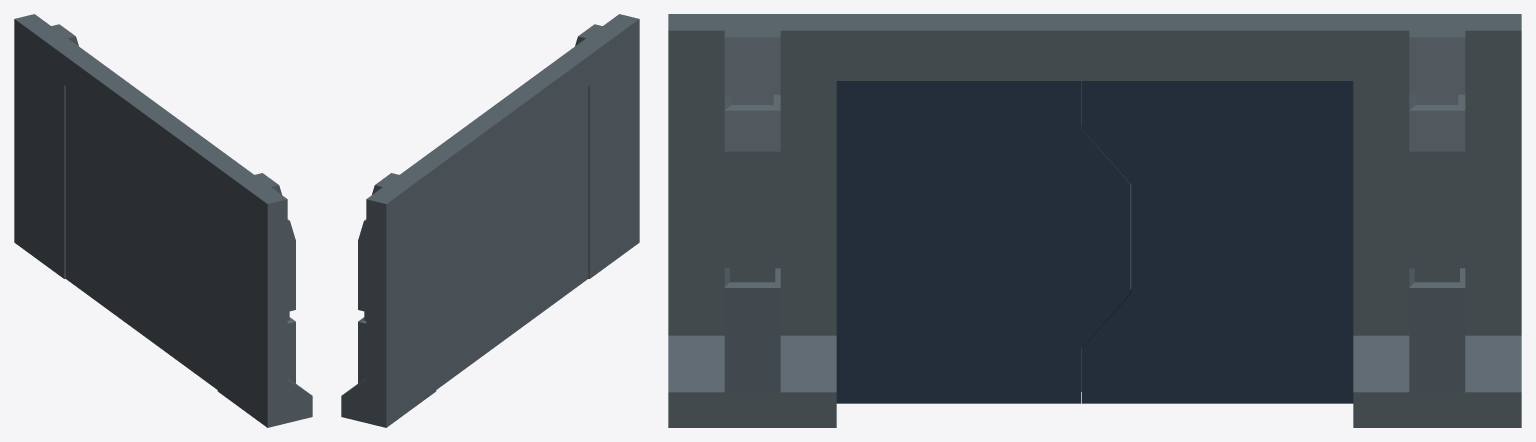
File: Gate.fbx
3 views of the same model, side by side, from view 1: azimuth 30°, elevation 25°; view 2: azimuth 150°, elevation 25°; view 3: azimuth 270°, elevation 25° (orthographic). The views are drawn at different scales.
Visible parts, largest first — view 1: Gate; view 2: Gate; view 3: Gate.
Boxes of the visible parts, box(x1,y1,x2,y2) form: Gate: box(14, 14, 312, 427); Gate: box(341, 14, 639, 427); Gate: box(668, 14, 1521, 427).
Bounding box in the file's own units: 208 × 989 × 2027.
